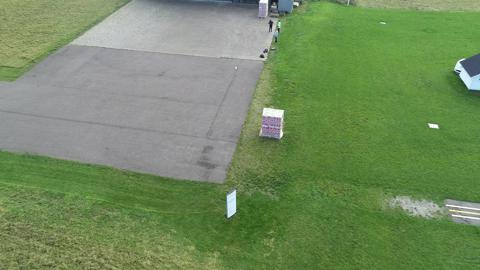RockwoolPallet: (260, 107, 285, 140)
